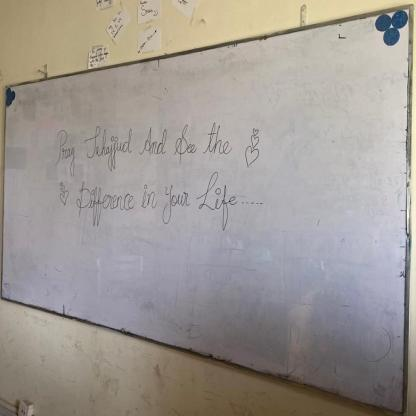Handwritten text: (72, 176, 237, 244), (53, 119, 235, 174)
Whiteboard: (0, 2, 411, 416)
